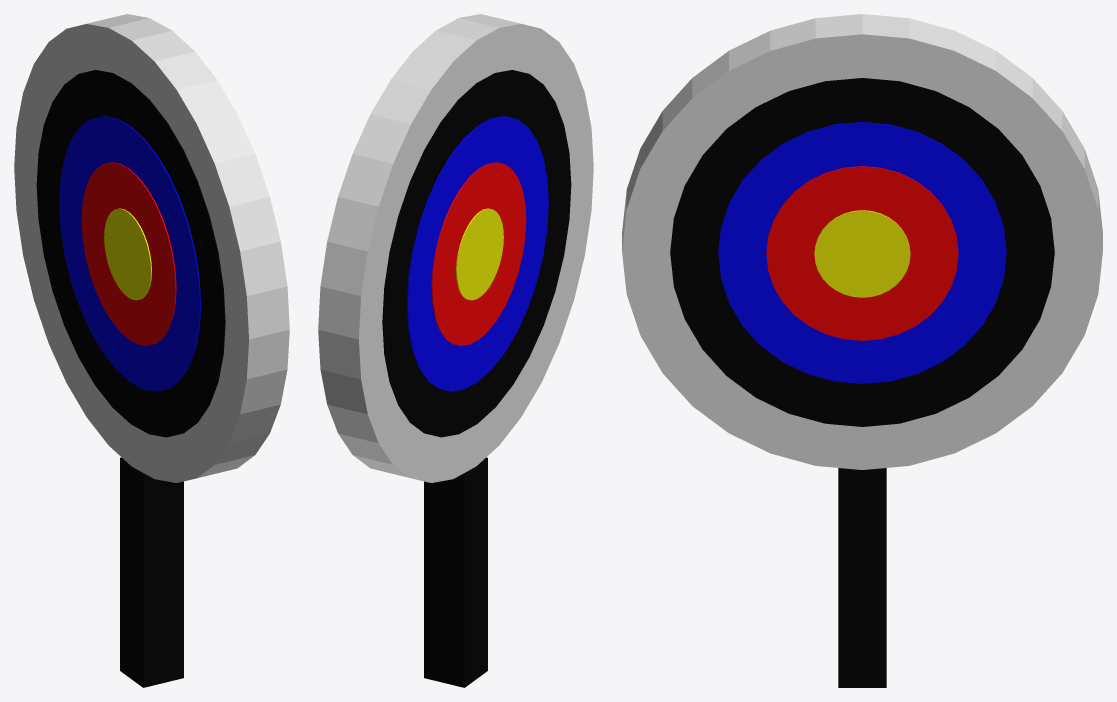
File: target.fbx
3 views of the same model, side by side, from view 1: azimuth 30°, elevation 25°; view 2: azimuth 150°, elevation 25°; view 3: azimuth 270°, elevation 25° (orthographic). The views are drawn at different scales.
Parts seen in each view (by area): view 1: 円柱, 円柱.004, 円柱.003, 立方体, 円柱.002, 円柱.001; view 2: 円柱, 円柱.004, 円柱.003, 立方体, 円柱.002, 円柱.001; view 3: 円柱, 円柱.004, 円柱.003, 円柱.002, 立方体, 円柱.001.
Part boxes in pixels (left/top/right/bottom): 円柱: left=14, top=14, right=289, bottom=482; 円柱.004: left=36, top=70, right=225, bottom=437; 円柱.003: left=59, top=116, right=200, bottom=391; 立方体: left=120, top=457, right=183, bottom=687; 円柱.002: left=81, top=162, right=176, bottom=345; 円柱.001: left=104, top=208, right=151, bottom=300; 円柱: left=318, top=14, right=593, bottom=482; 円柱.004: left=382, top=70, right=571, bottom=437; 円柱.003: left=407, top=116, right=548, bottom=391; 立方体: left=424, top=457, right=487, bottom=687; 円柱.002: left=431, top=162, right=526, bottom=345; 円柱.001: left=456, top=208, right=503, bottom=300; 円柱: left=622, top=14, right=1102, bottom=469; 円柱.004: left=670, top=78, right=1054, bottom=426; 円柱.003: left=718, top=122, right=1006, bottom=383; 円柱.002: left=766, top=166, right=958, bottom=340; 立方体: left=838, top=468, right=886, bottom=687; 円柱.001: left=814, top=210, right=910, bottom=297.
Size of the model in its own units: 24 by 300 by 200.
